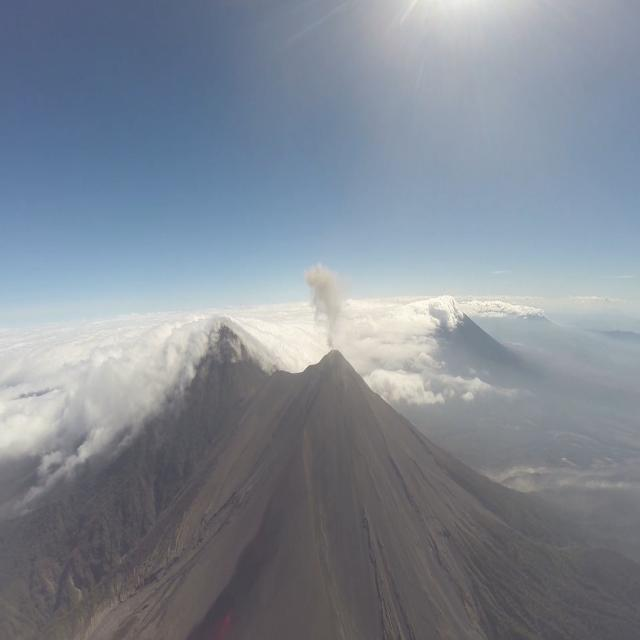Plume: (304, 260, 344, 348)
Summit: (305, 348, 363, 380)
